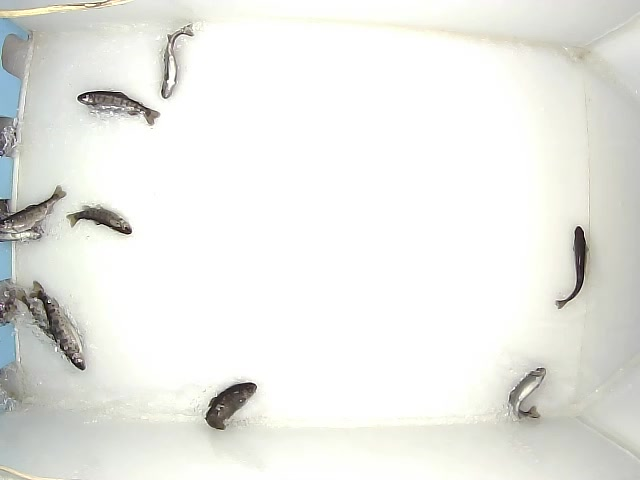fish: (29, 280, 86, 371), (15, 288, 72, 346), (555, 226, 590, 310), (77, 91, 161, 125), (1, 185, 67, 228), (204, 382, 257, 430), (161, 22, 194, 99), (66, 204, 132, 235), (508, 368, 546, 420)
